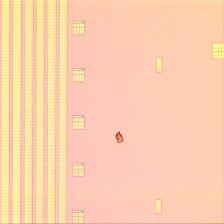PIQ PARTICLE: (114, 132, 127, 145)
